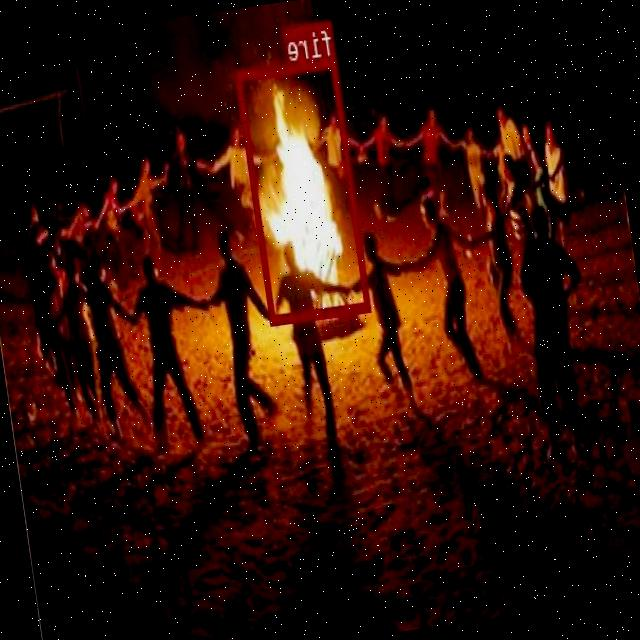fire: (235, 56, 372, 324)
